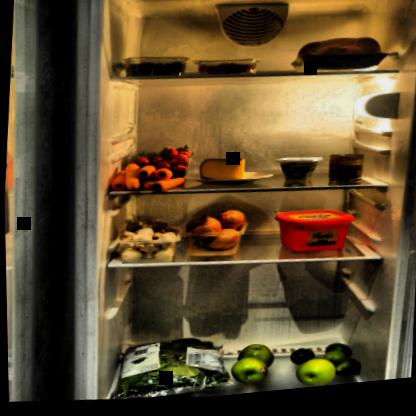apple: (227, 345, 277, 397), (293, 359, 338, 393)
blueberries: (125, 60, 185, 85)
butter: (273, 209, 355, 263)
carrot: (106, 159, 190, 201)
cheese: (196, 157, 248, 190)
chicken: (289, 36, 392, 85)
corn: (327, 159, 365, 191)
lime: (321, 347, 362, 388), (288, 353, 315, 372)
mushrooms: (111, 218, 183, 269)
onion: (181, 209, 247, 261)
shrimp: (197, 64, 256, 85)
spinach: (108, 331, 238, 407)
strawberries: (134, 147, 189, 182)
